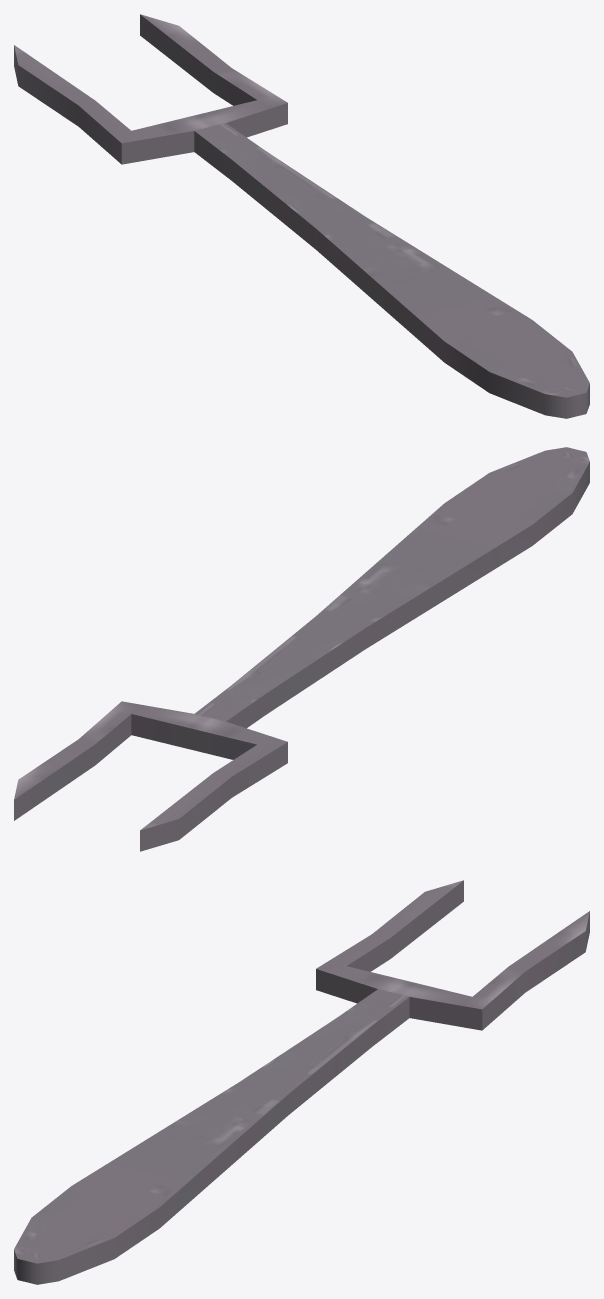
Rendered from Table_Fork.glb.
3 views of the same model, one above another, from view 1: azimuth 30°, elevation 25°; view 2: azimuth 150°, elevation 25°; view 3: azimuth 330°, elevation 25° (orthographic).
Parts seen in each view (by area): view 1: Table_Fork; view 2: Table_Fork; view 3: Table_Fork.
Part boxes in pixels (x1,y1,x2,y2): Table_Fork: (14,14,589,418); Table_Fork: (14,447,589,851); Table_Fork: (14,880,589,1284).
Size of the model in its own units: 0.0505 by 0.00616 by 0.2626.
1 material, 1 textured.
